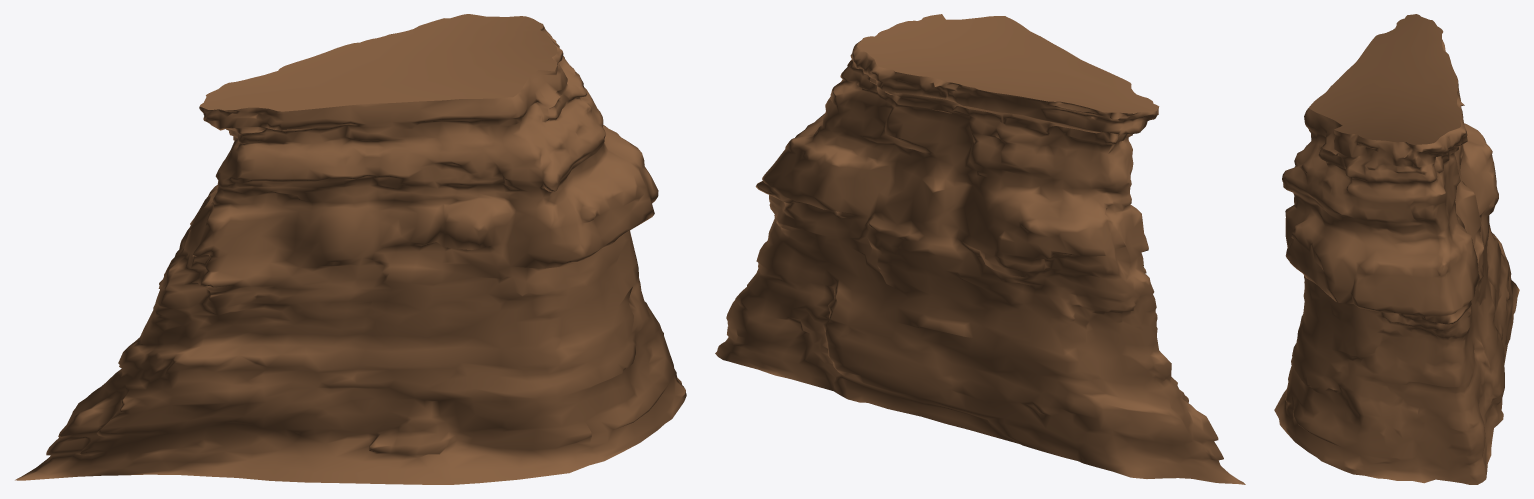
Rendered from MSH_Rocks_Cliff_10_b.FBX.
The picture shows the model from 3 angles, left to right: view 1: azimuth 30°, elevation 25°; view 2: azimuth 150°, elevation 25°; view 3: azimuth 270°, elevation 25°; orthographic projection. The views are drawn at different scales.
Parts seen in each view (by area): view 1: MESH_LOD0, CAP_LOD0; view 2: MESH_LOD0, CAP_LOD0; view 3: MESH_LOD0, CAP_LOD0.
Part boxes in pixels (x1,y1,x2,y2): MESH_LOD0: [15, 25, 686, 484]; CAP_LOD0: [200, 14, 557, 111]; MESH_LOD0: [715, 24, 1245, 484]; CAP_LOD0: [857, 14, 1159, 113]; MESH_LOD0: [1274, 39, 1519, 484]; CAP_LOD0: [1309, 14, 1462, 144].
Size of what is drawn, in the model's own units: 1160 by 661 by 508.
